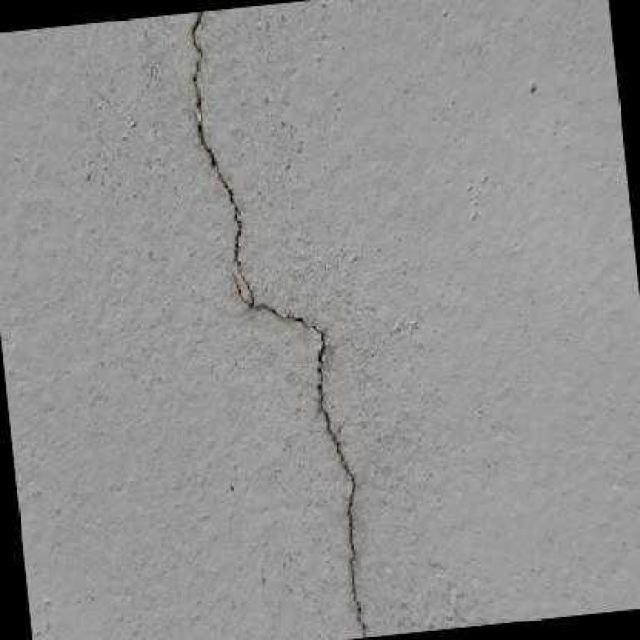D00: (192, 10, 367, 637)
